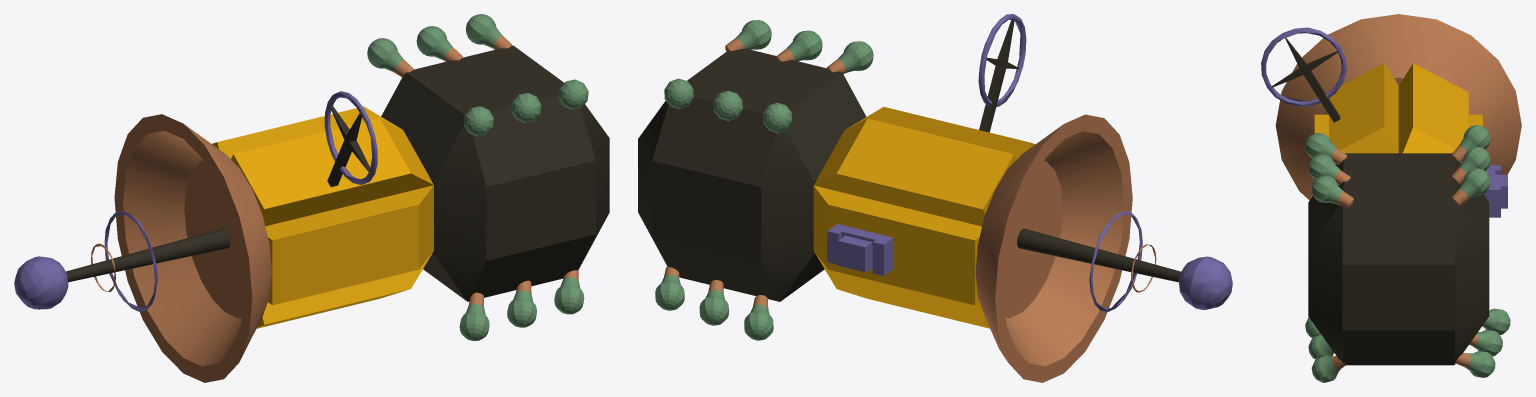
File: fsheq.fbx
The picture shows the model from 3 angles, left to right: view 1: azimuth 30°, elevation 25°; view 2: azimuth 150°, elevation 25°; view 3: azimuth 270°, elevation 25°; orthographic projection. The views are drawn at different scales.
Visible parts, largest first — view 1: 空白_6; view 2: 空白_6; view 3: 空白_6.
Boxes of the visible parts, left/top/right/bottom form: 空白_6: left=14, top=14, right=609, bottom=382; 空白_6: left=638, top=14, right=1232, bottom=382; 空白_6: left=1261, top=14, right=1521, bottom=382.
Bounding box in the file's own units: 9.01 × 4.45 × 4.07.
